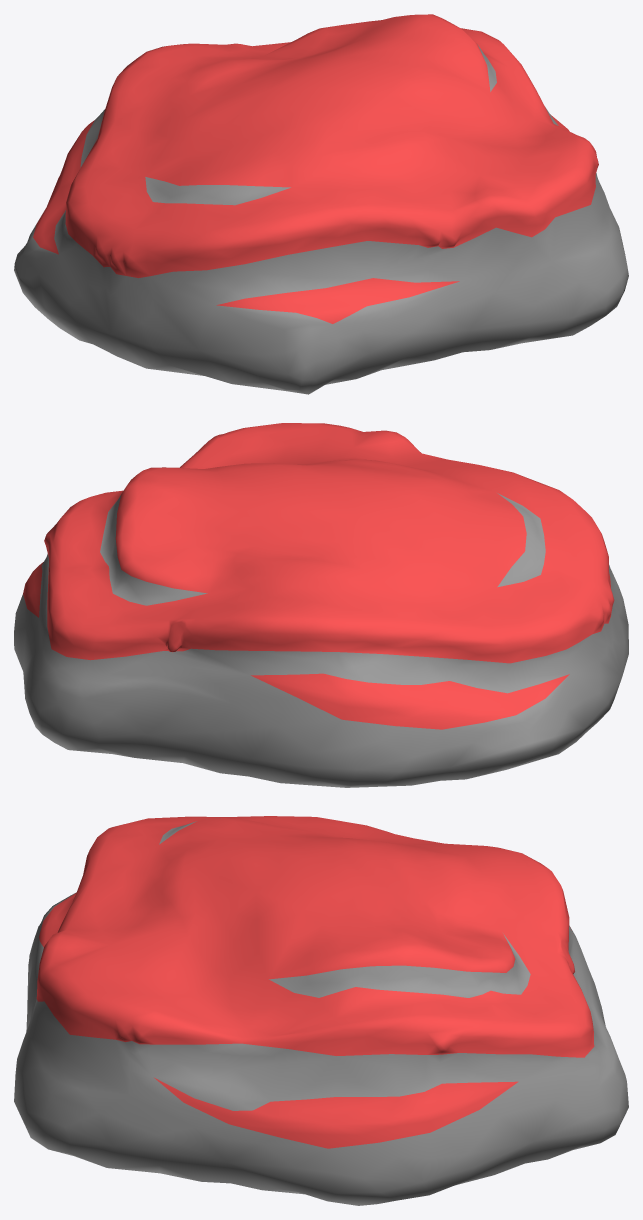
Rendered from Hill.fbx.
3 renders of one model, top to bottom at view 1: azimuth 30°, elevation 25°; view 2: azimuth 150°, elevation 25°; view 3: azimuth 270°, elevation 25°, orthographic. The views are drawn at different scales.
Parts seen in each view (by area): view 1: Tepe; view 2: Tepe; view 3: Tepe.
Part boxes in pixels (x1,y1,x2,y2): Tepe: (14,14,628,394); Tepe: (14,423,628,787); Tepe: (14,816,628,1205).
Bounding box in the file's own units: 232 × 83.5 × 213.
